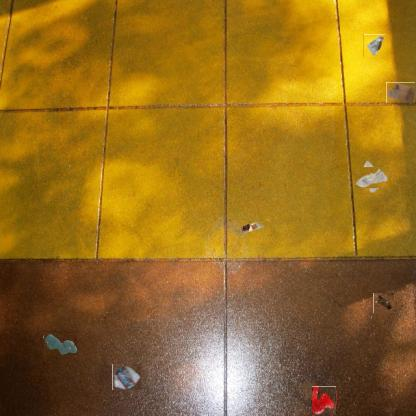dirty: (358, 163, 386, 191), (112, 364, 141, 390), (386, 82, 415, 103), (363, 34, 385, 57), (373, 293, 394, 313), (239, 220, 265, 236)
liquid: (43, 332, 77, 356), (312, 386, 336, 415)
